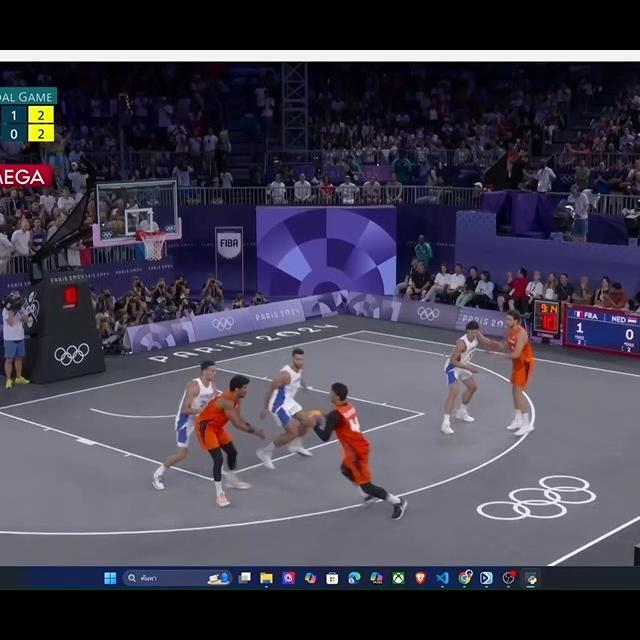basketball: (305, 406, 323, 429)
hoop: (140, 228, 168, 262)
